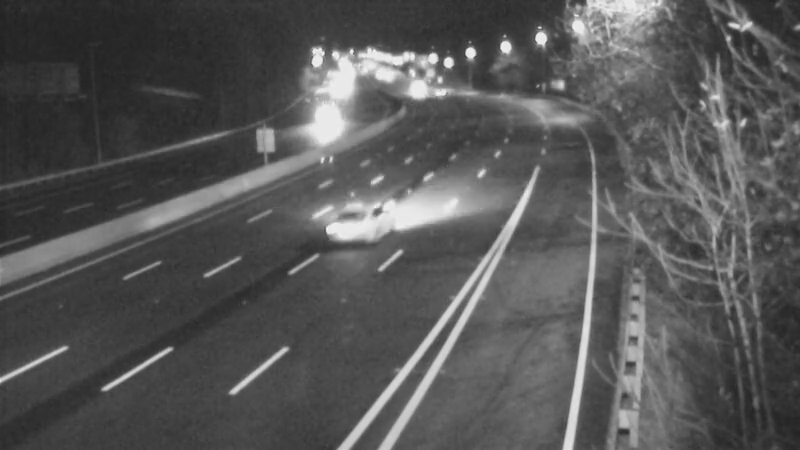vehicle: (303, 178, 383, 258), (390, 57, 440, 107), (414, 68, 464, 118), (392, 69, 442, 119), (302, 102, 352, 152)
